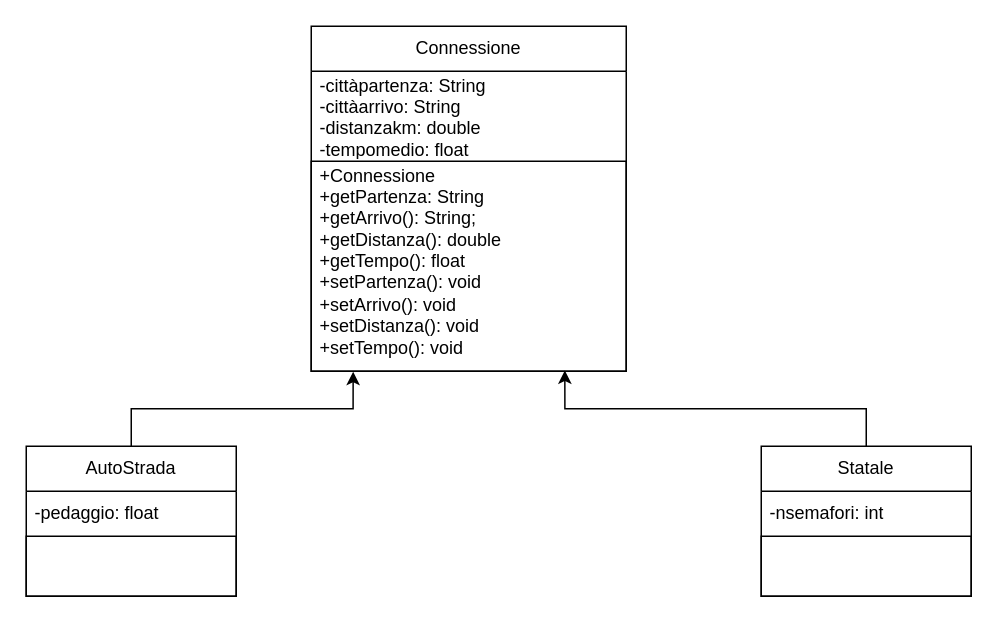
Some shapes in this 998 by 623 pixel diagram are drawn without their labels. Each missing label, with the centre of its shape:
"+getPedaggio: float +setPedaggio: void" goes at pixel 130 565.
"+getSemafori: int +setSemafori: void" goes at pixel 865 565.
